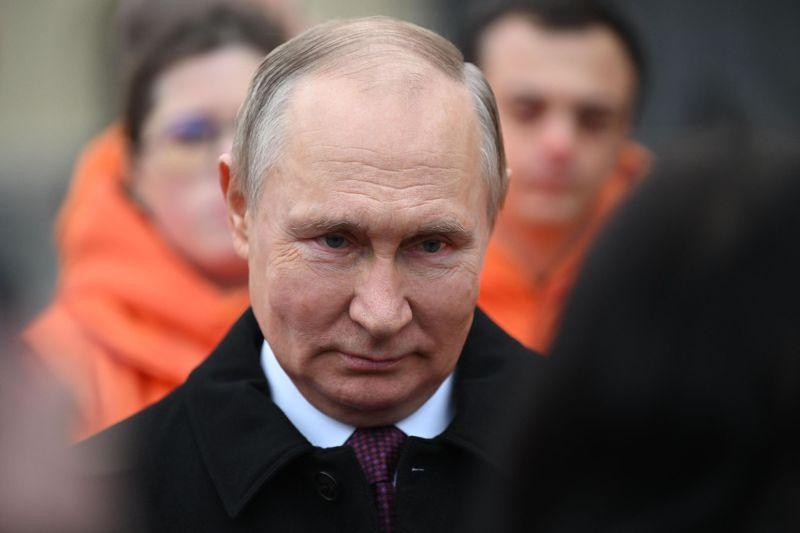Persons: (199, 0, 532, 435)
